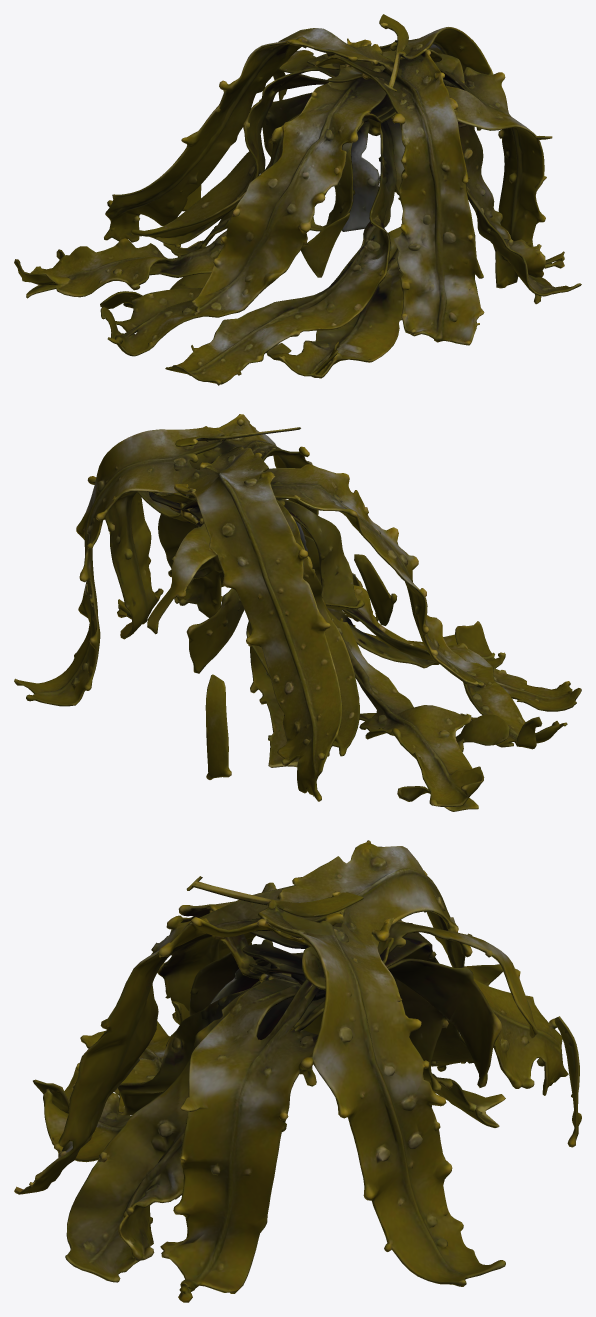
File: Seaweed_Final.fbx
The picture shows the model from 3 angles, top to bottom: view 1: azimuth 30°, elevation 25°; view 2: azimuth 150°, elevation 25°; view 3: azimuth 270°, elevation 25°; orthographic projection. The views are drawn at different scales.
Visible parts, largest first — view 1: Seaweed_Final; view 2: Seaweed_Final; view 3: Seaweed_Final.
Part boxes in pixels (left/top/right/bottom): Seaweed_Final: left=14, top=14, right=581, bottom=385; Seaweed_Final: left=14, top=414, right=581, bottom=811; Seaweed_Final: left=14, top=840, right=581, bottom=1302.
Bounding box in the file's own units: 98.16 × 50.96 × 78.55.
